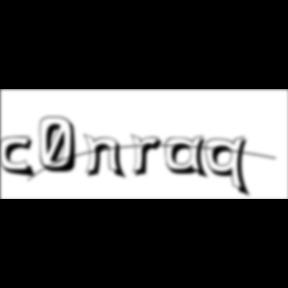0: (38, 115, 84, 174)
a: (165, 135, 213, 182)
c: (1, 136, 40, 180)
n: (84, 132, 130, 181)
q: (206, 135, 254, 200)
r: (131, 134, 169, 180)
